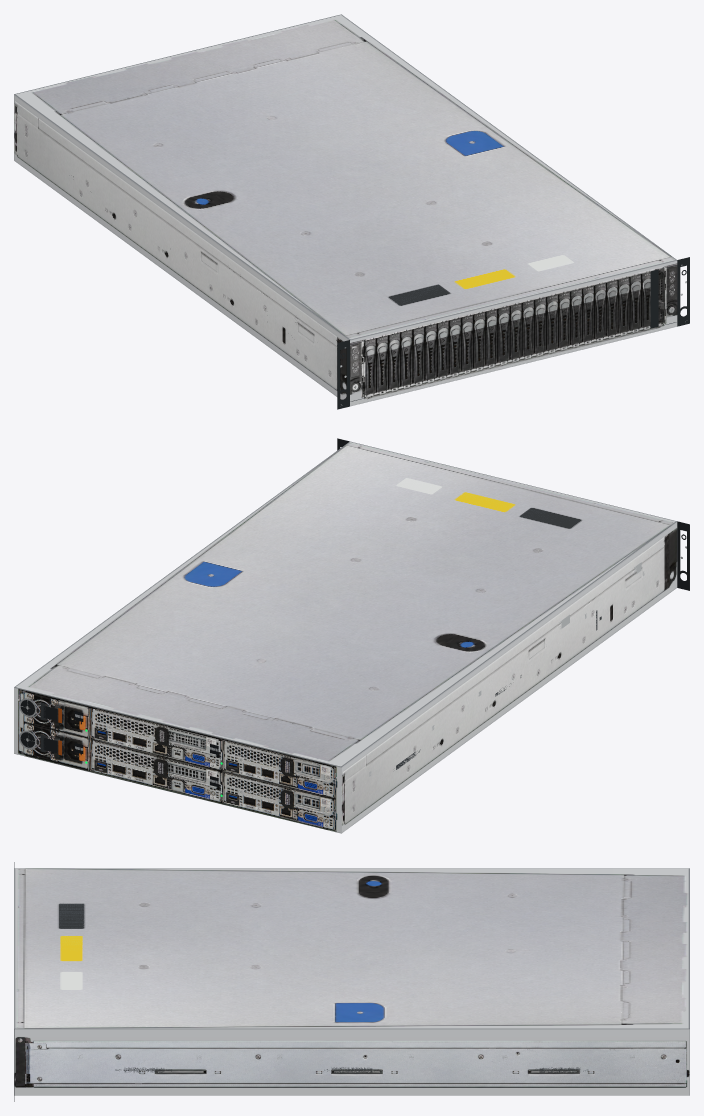
The model's file is Dell-PowerEdge-C6300-4xC6320-24SFF-standard.glb.
3 renders of one model, top to bottom at view 1: azimuth 30°, elevation 25°; view 2: azimuth 150°, elevation 25°; view 3: azimuth 270°, elevation 25°, orthographic.
Parts seen in each view (by area): view 1: Top_SourceLocked_Texture, Physical_Right_SourceLocked_Texture, Front_SourceLocked_Texture, Front_LeftControl_SourceTexture, Front_RightControl_SourceTexture, SFF_Carrier_10_SourceTexture, SFF_Carrier_22_SourceTexture, SFF_Carrier_18_SourceTexture, SFF_Carrier_04_SourceTexture, SFF_Carrier_11_SourceTexture, SFF_Carrier_14_SourceTexture, SFF_Carrier_15_SourceTexture (+17 smaller); view 2: Top_SourceLocked_Texture, Physical_Right_SourceLocked_Texture, Rear_SourceLocked_Texture; view 3: Top_SourceLocked_Texture, Physical_Left_SourceLocked_Texture, Top_Factory_Label_Block_Black.
Part boxes in pixels (x1,y1,x2,y2): Top_SourceLocked_Texture: [14, 14, 676, 339]; Physical_Right_SourceLocked_Texture: [14, 94, 348, 399]; Front_SourceLocked_Texture: [350, 260, 677, 406]; Front_LeftControl_SourceTexture: [350, 341, 365, 401]; Front_RightControl_SourceTexture: [662, 265, 676, 325]; SFF_Carrier_10_SourceTexture: [479, 311, 490, 370]; SFF_Carrier_22_SourceTexture: [616, 278, 627, 336]; SFF_Carrier_18_SourceTexture: [570, 289, 580, 348]; SFF_Carrier_04_SourceTexture: [411, 328, 421, 387]; SFF_Carrier_11_SourceTexture: [491, 309, 501, 367]; SFF_Carrier_14_SourceTexture: [526, 300, 536, 359]; SFF_Carrier_15_SourceTexture: [537, 297, 547, 356]; Top_SourceLocked_Texture: [14, 441, 676, 766]; Physical_Right_SourceLocked_Texture: [341, 522, 677, 832]; Rear_SourceLocked_Texture: [14, 687, 341, 833]; Top_SourceLocked_Texture: [14, 868, 689, 1028]; Physical_Left_SourceLocked_Texture: [14, 1029, 689, 1095]; Top_Factory_Label_Block_Black: [59, 903, 84, 928].
Size of the model in its own units: 482 by 86.8 by 796.
Materials: 17 (8 with a texture image).
